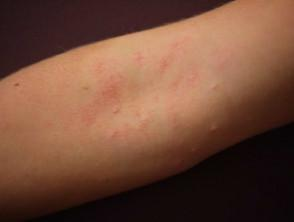Eczema: (90, 75, 125, 111)
